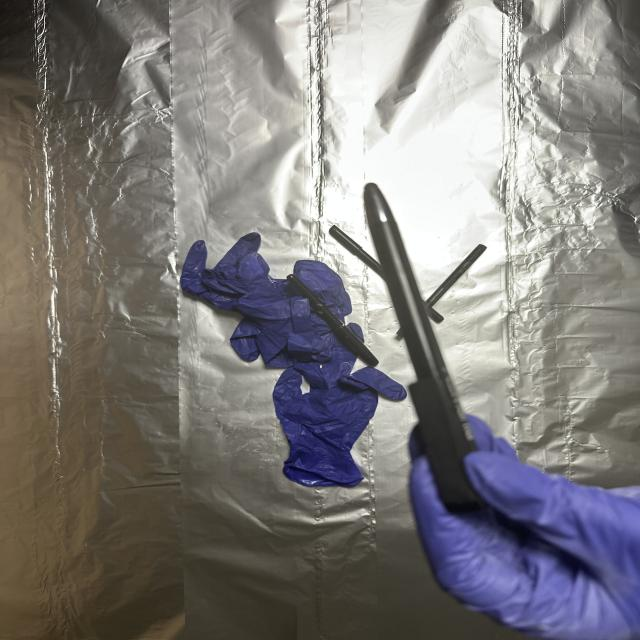gloves_contaminated: (410, 415, 640, 640)
